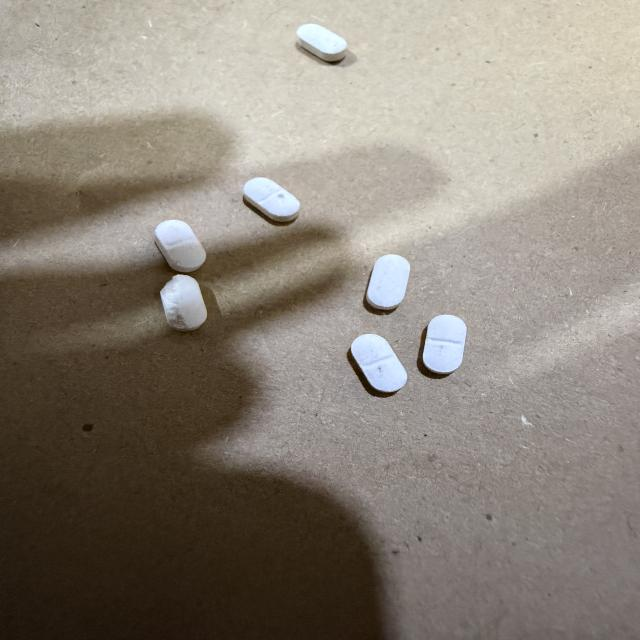pill: (351, 334, 407, 392), (155, 220, 206, 272), (161, 275, 207, 331), (423, 315, 466, 373), (244, 178, 300, 222), (367, 255, 409, 309), (297, 24, 347, 62)
